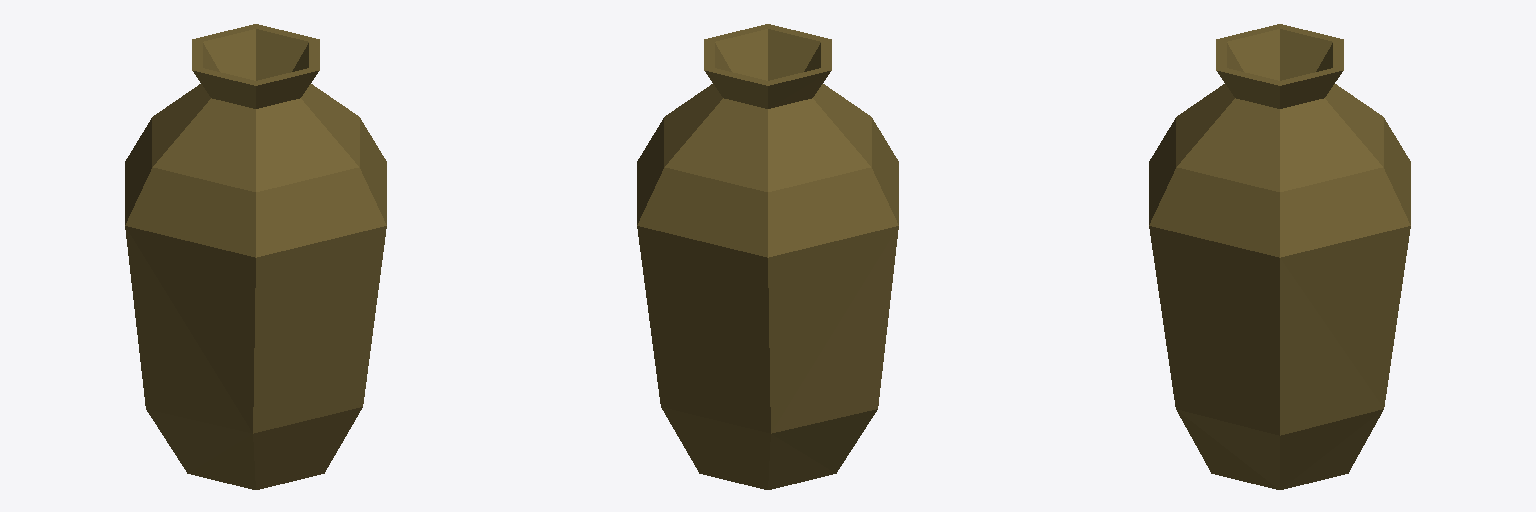
File: jug_003.obj
The picture shows the model from 3 angles: view 1: azimuth 30°, elevation 25°; view 2: azimuth 150°, elevation 25°; view 3: azimuth 270°, elevation 25°; orthographic projection.
Visible parts, largest first — view 1: jug_003; view 2: jug_003; view 3: jug_003.
Part boxes in pixels (left/top/right/bottom): jug_003: left=125, top=24, right=386, bottom=489; jug_003: left=637, top=24, right=898, bottom=489; jug_003: left=1149, top=24, right=1410, bottom=489.
Size of the model in its own units: 0.3887 by 0.5704 by 0.3367.